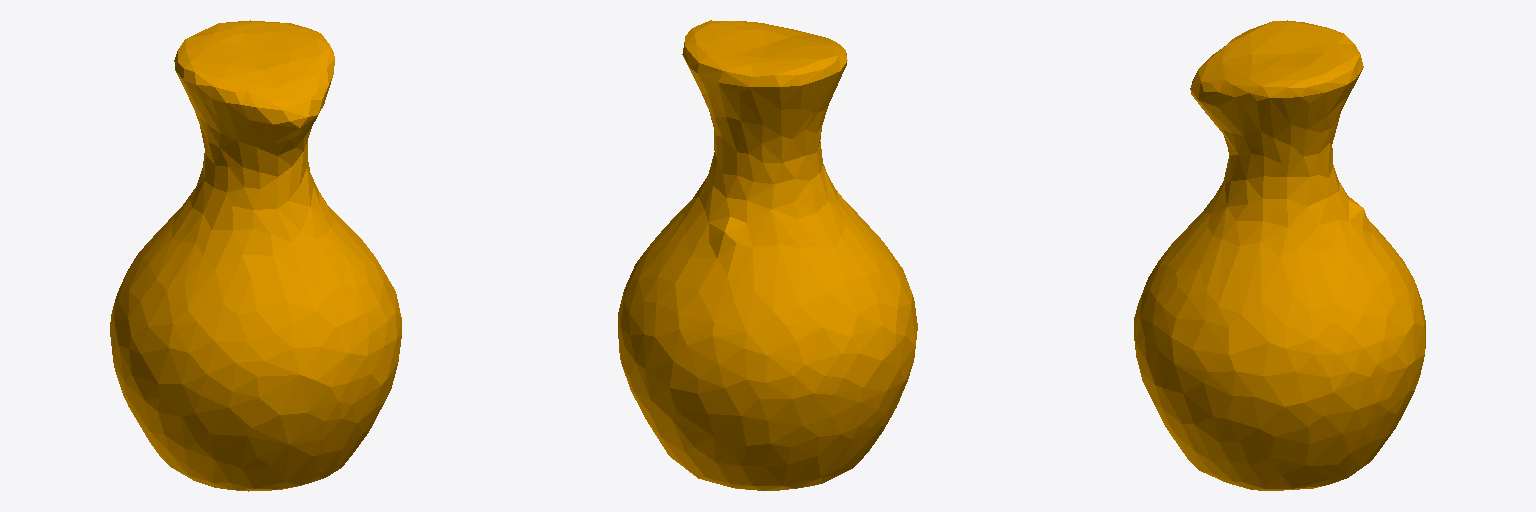
robot.urdf — pitcher_poisson_004:
<?xml version="1.0"?>
<robot name="pitcher_poisson_004">
  <link name="base_link">
    <contact>
      <lateral_friction value="1.0"/>
      <rolling_friction value="0.0"/>
      <contact_cfm value="0.0"/>
      <contact_erp value="1.0"/>
    </contact>
    <inertial>
      <mass value="1.97644986376"/>
      <inertia ixx="1" ixy="0" ixz="0" iyy="1" iyz="0" izz="1"/>
    </inertial>
    <visual>
      <geometry>
        <mesh filename="pitcher_poisson_004_visual.obj"/>
      </geometry>
    </visual>
    <collision>
      <geometry>
        <mesh filename="pitcher_poisson_004_collision.obj"/>
      </geometry>
    </collision>
  </link>
</robot>

--- Render facts (derived) ---
Views: 3 orthographic renders of the robot side by side, from view 1: azimuth 30°, elevation 25°; view 2: azimuth 150°, elevation 25°; view 3: azimuth 270°, elevation 25°.
Robot: pitcher_poisson_004 — 1 links, 0 joints (none); root link base_link; default pose: every joint at zero.
Visible links, largest first — view 1: base_link; view 2: base_link; view 3: base_link.
Boxes of the visible links, left/top/right/bottom form: base_link: left=110, top=20, right=401, bottom=491; base_link: left=618, top=20, right=917, bottom=490; base_link: left=1134, top=20, right=1425, bottom=490.
Bounding box of the posed robot: 0.07 × 0.0699 × 0.1077 m (x, y, z).
Meshes: 1 distinct files referenced, 1 mesh visuals loaded (1 OBJ).